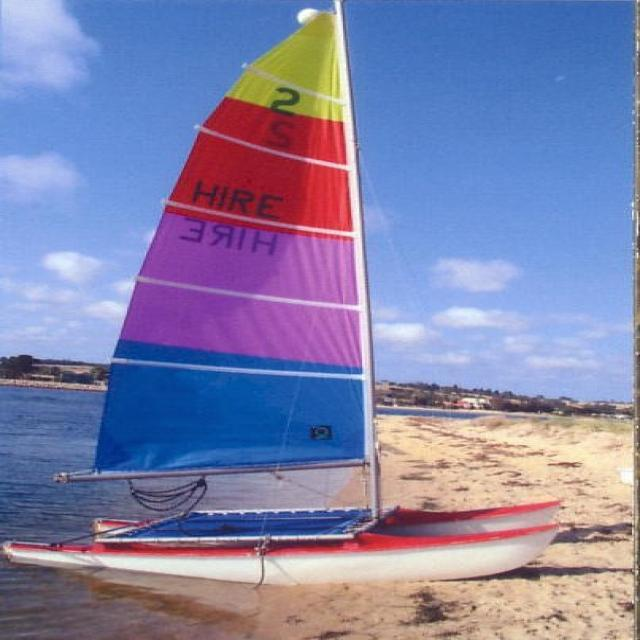Ship: (10, 12, 572, 600)
